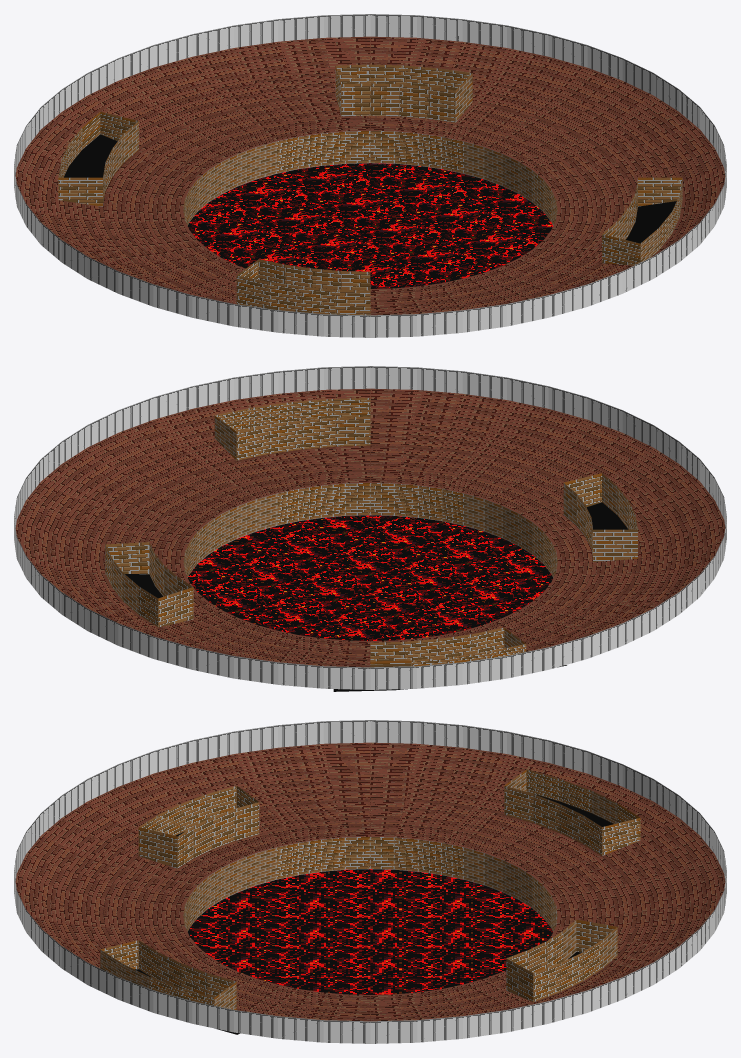
Rendered from big Donut.obj.
3 views of the same model, one above another, from view 1: azimuth 30°, elevation 25°; view 2: azimuth 150°, elevation 25°; view 3: azimuth 270°, elevation 25° (orthographic).
Size of the model in its own units: 30 by 3.6 by 30.
Materials: 13 (12 with a texture image).
